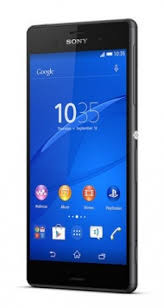sony: (23, 18, 139, 293)
